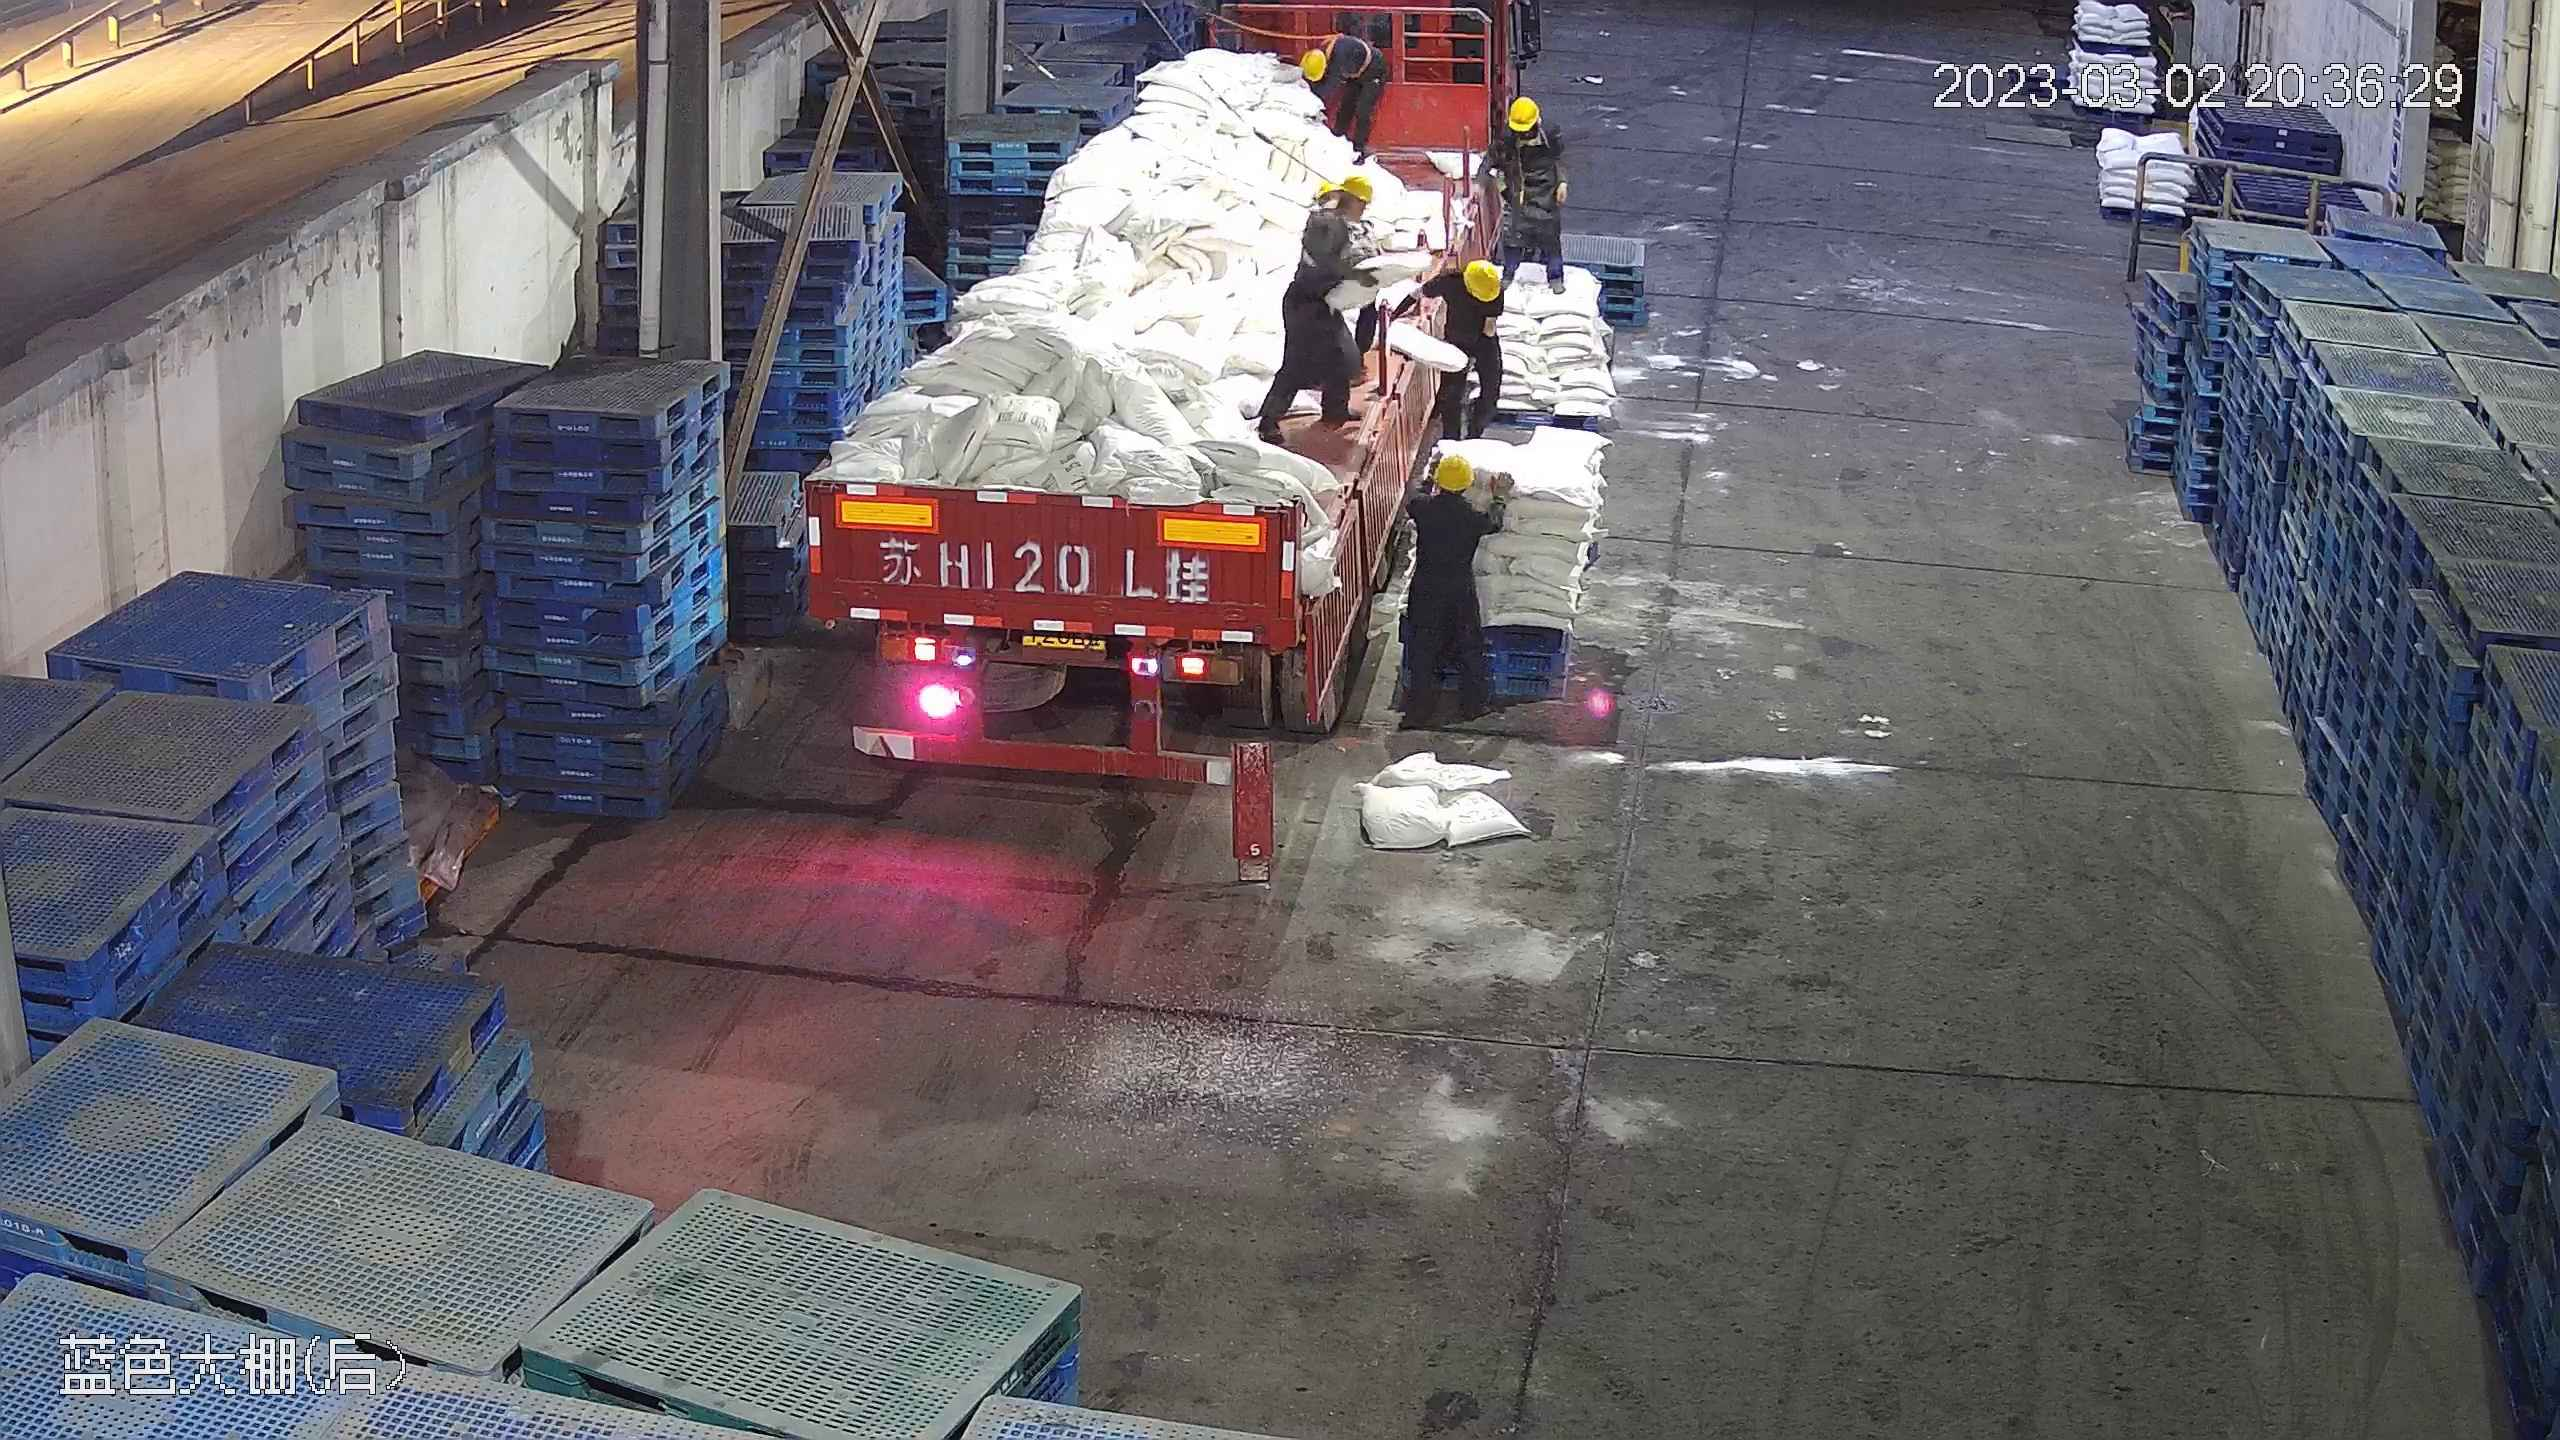belt: (1304, 205, 1356, 263), (1328, 31, 1376, 80), (1509, 123, 1548, 152)
head: (1403, 442, 1491, 528), (1300, 173, 1375, 251), (1431, 257, 1504, 324), (1493, 95, 1563, 162), (1300, 34, 1368, 83)
helmet: (1429, 450, 1476, 494), (1459, 258, 1502, 305), (1328, 169, 1375, 208), (1505, 95, 1539, 130), (1301, 47, 1328, 82)
people: (1255, 169, 1379, 438), (1399, 445, 1509, 726), (1486, 93, 1572, 298), (1430, 256, 1506, 440), (1299, 40, 1388, 146)
truck: (792, 13, 1536, 789)
